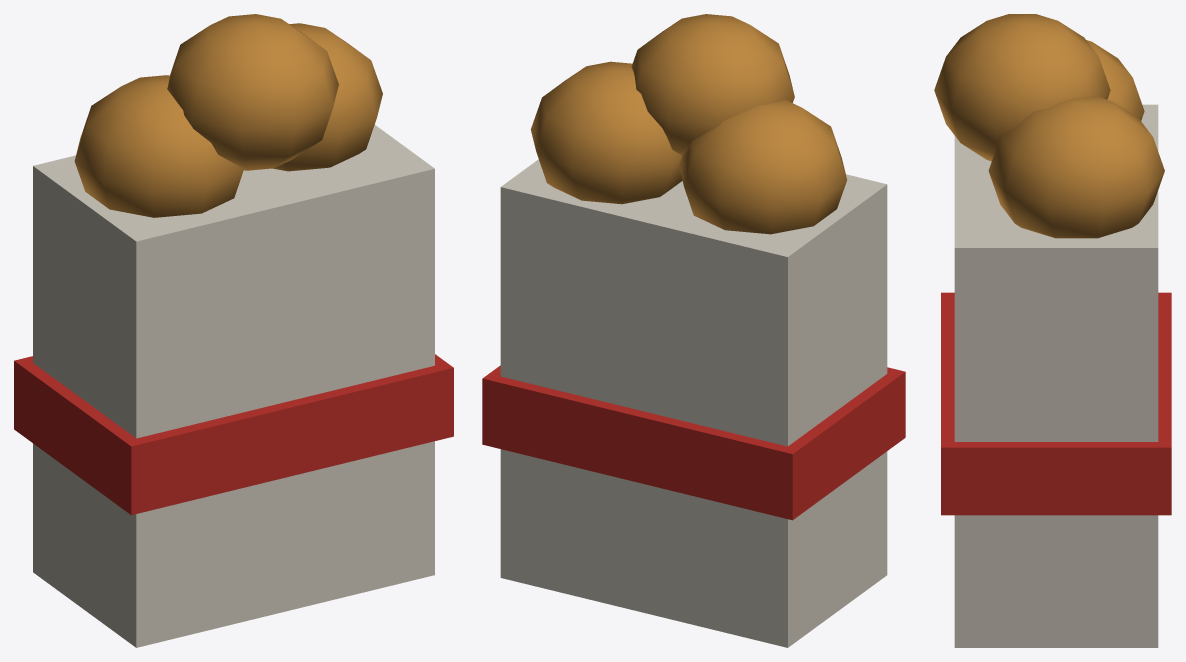
Rendered from item_castella.glb.
3 views of the same model, side by side, from view 1: azimuth 30°, elevation 25°; view 2: azimuth 150°, elevation 25°; view 3: azimuth 270°, elevation 25° (orthographic). The views are drawn at different scales.
Visible parts, largest first — view 1: item_castella; view 2: item_castella; view 3: item_castella.
Boxes of the visible parts, x1=… form: item_castella: x1=14, y1=14, x2=453, y2=647; item_castella: x1=482, y1=14, x2=905, y2=647; item_castella: x1=934, y1=14, x2=1171, y2=647.
Bounding box in the file's own units: 0.108 × 0.18 × 0.07.
